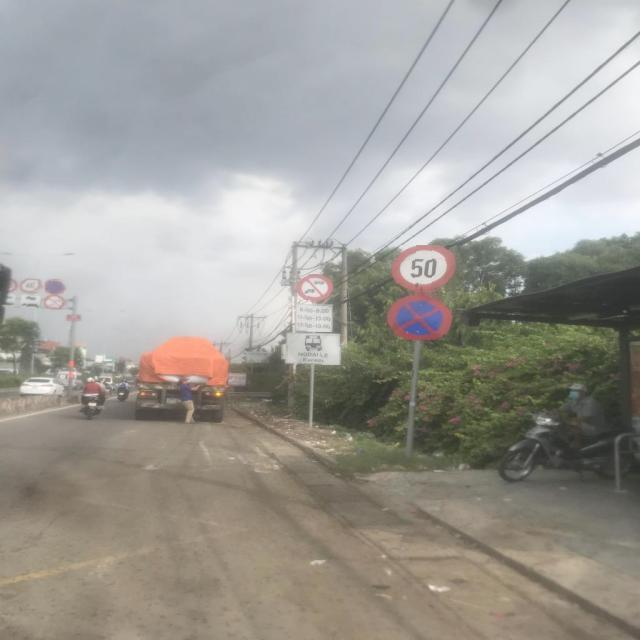107-cam-oto-khach-va-oto-tai: (296, 274, 332, 302)
127-toc-do-toi-da-50: (389, 244, 455, 292)
127-toc-do-toi-da-60: (18, 278, 44, 294)
130-cam-dung-va-do-xe: (386, 297, 452, 343)
